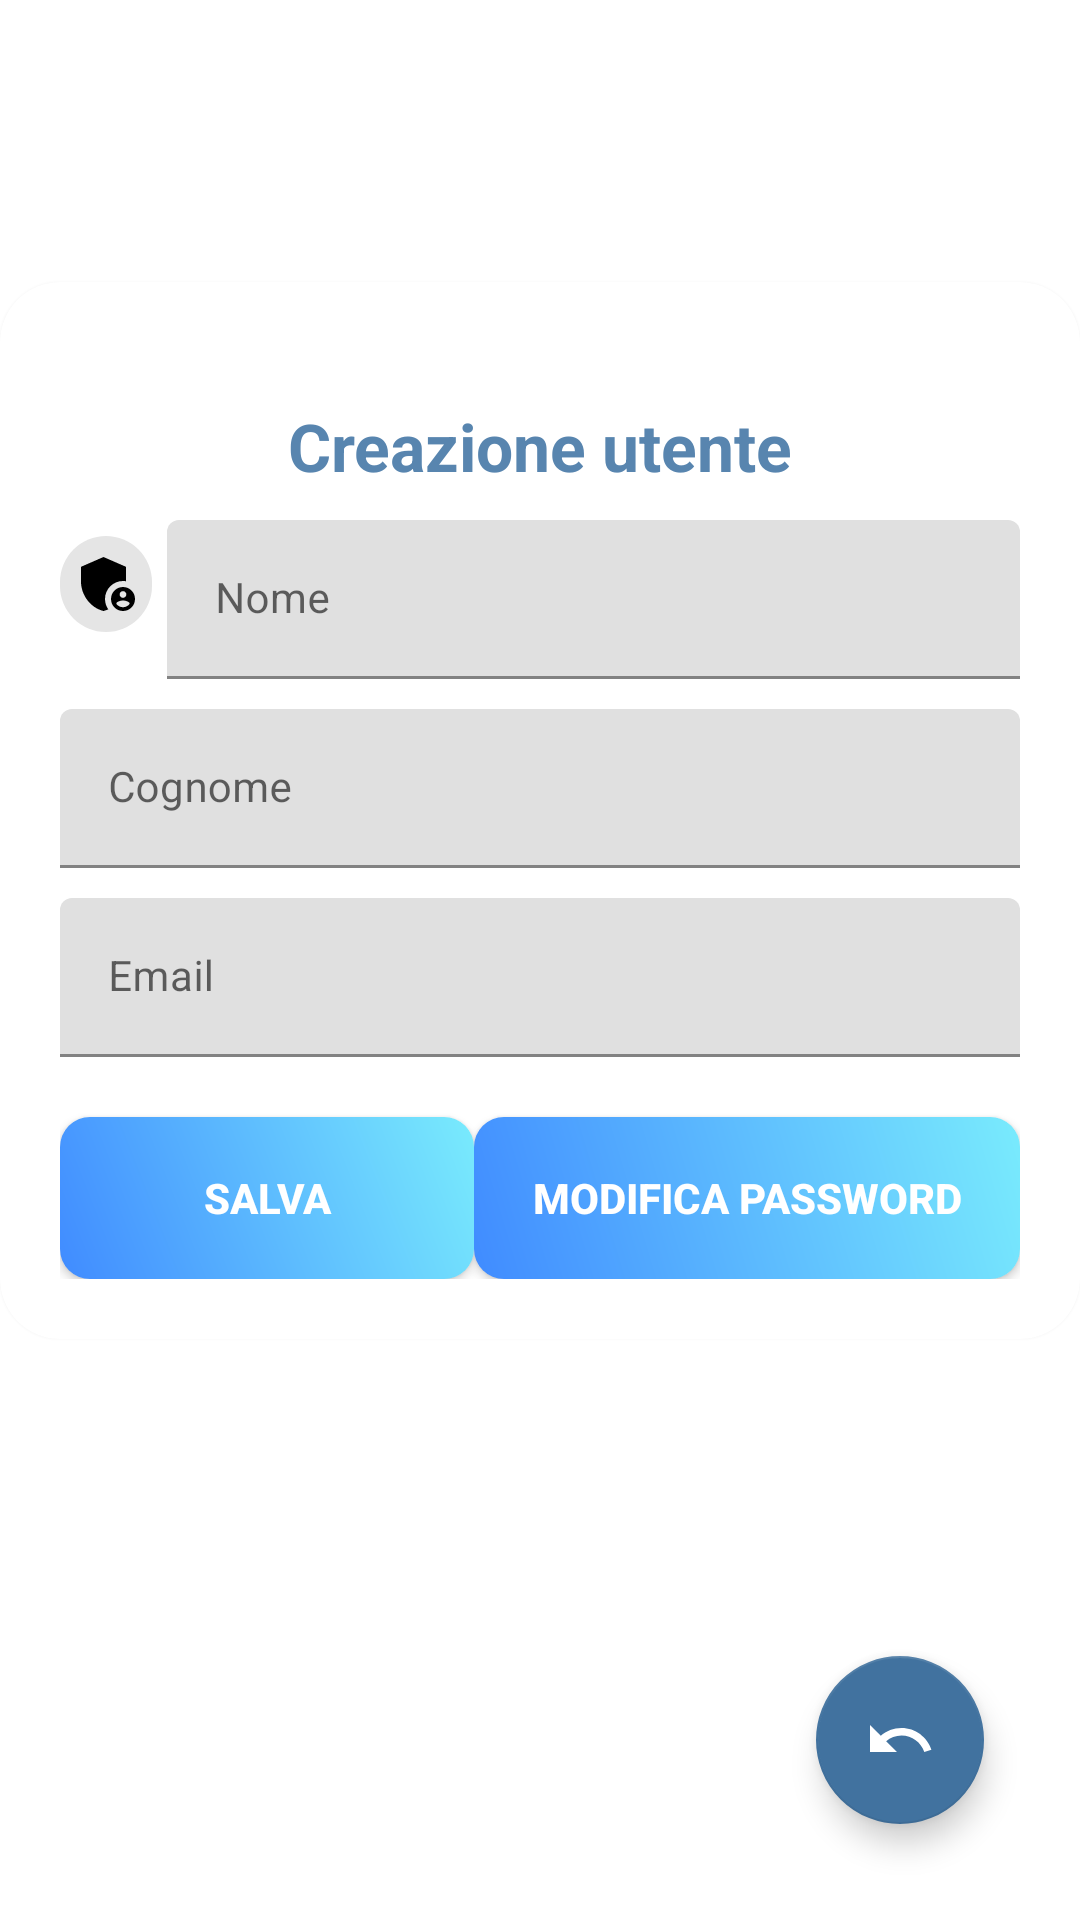

Icon bounding boxes for this 1080×1920 phone screenshot, format (x1, y1, x2, y2):
back: (816, 1656, 984, 1824)
